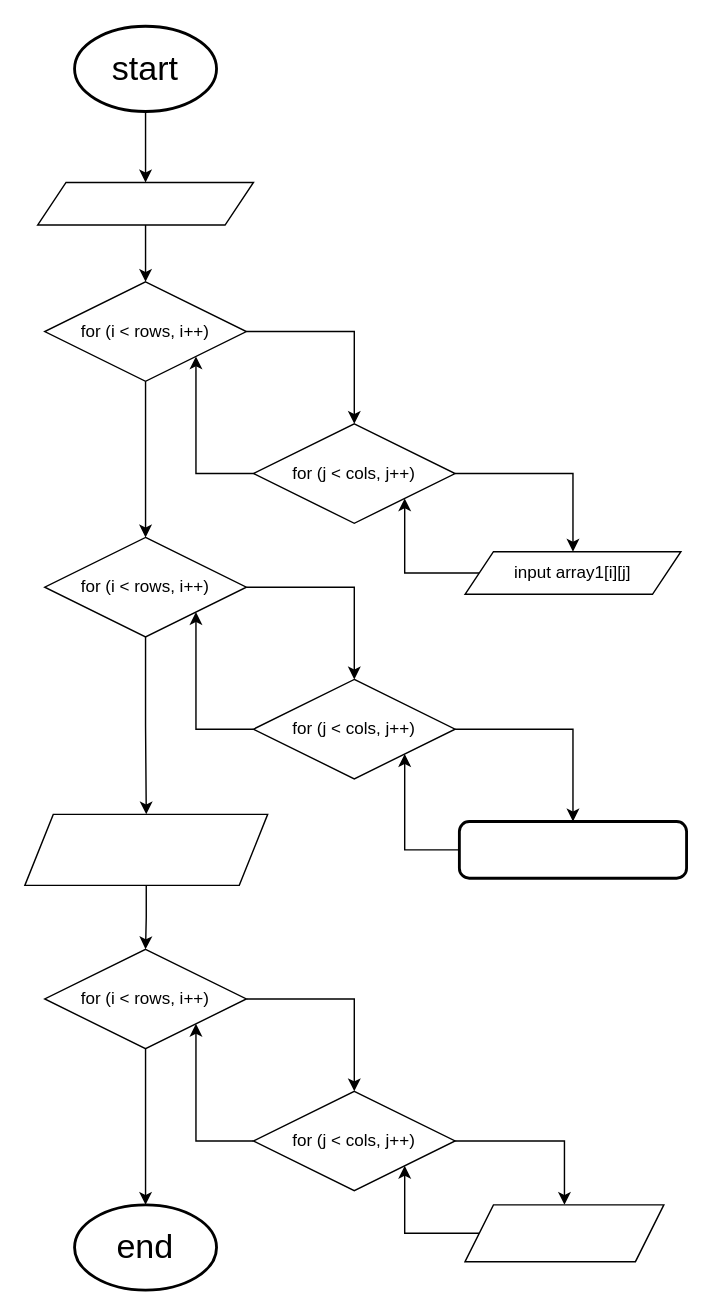
Some shapes in this 713 by 1315 pixel diagram are drawn without their labels. The centre of each missing label's shape, as x and y in pixels:
array3[i][j] = array1[i][j] + array2[i][j]: (x=572, y=849)
input rows, cols: (x=144, y=203)
output "Array1 + Array2 = Array3: (x=145, y=849)
output array3[i][j]: (x=564, y=1232)
